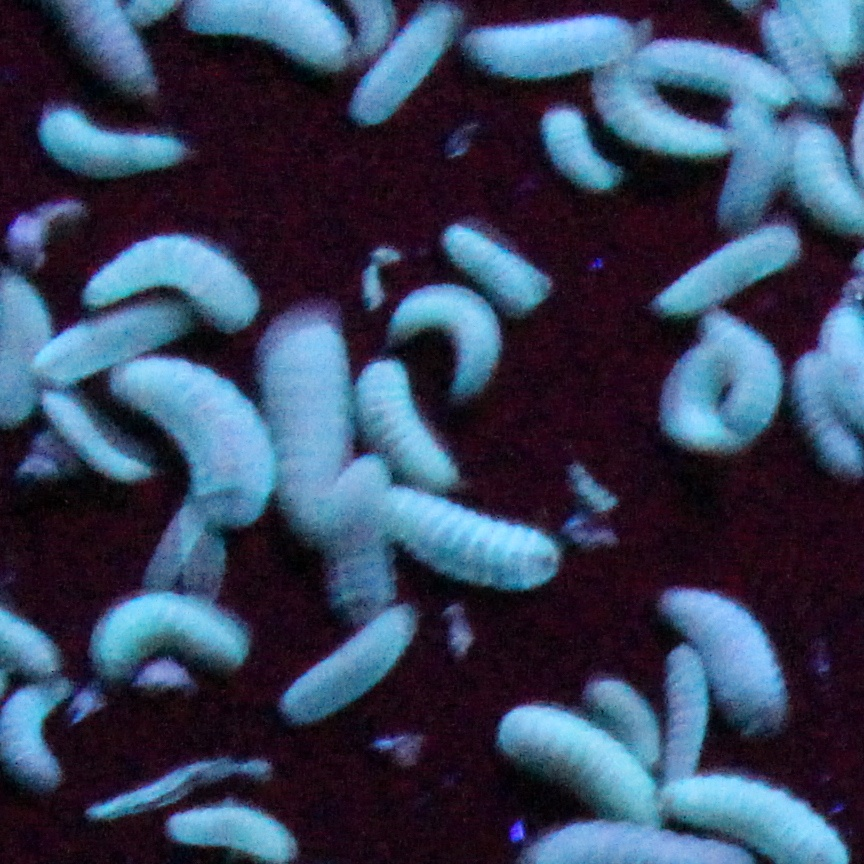larve: (104, 349, 274, 533), (256, 308, 352, 542), (363, 485, 572, 590), (661, 576, 799, 733), (495, 701, 661, 820), (272, 599, 422, 722), (645, 224, 808, 320), (340, 1, 461, 129), (86, 233, 256, 324), (317, 442, 402, 624), (22, 295, 199, 379), (354, 363, 463, 490), (88, 592, 258, 672), (386, 281, 504, 395), (436, 220, 563, 317), (463, 15, 638, 81), (40, 101, 195, 174), (597, 81, 740, 156), (702, 310, 781, 435), (158, 799, 304, 863), (627, 45, 786, 101), (667, 338, 745, 449), (583, 670, 665, 770), (761, 13, 847, 108), (540, 104, 620, 195), (663, 635, 713, 776)
